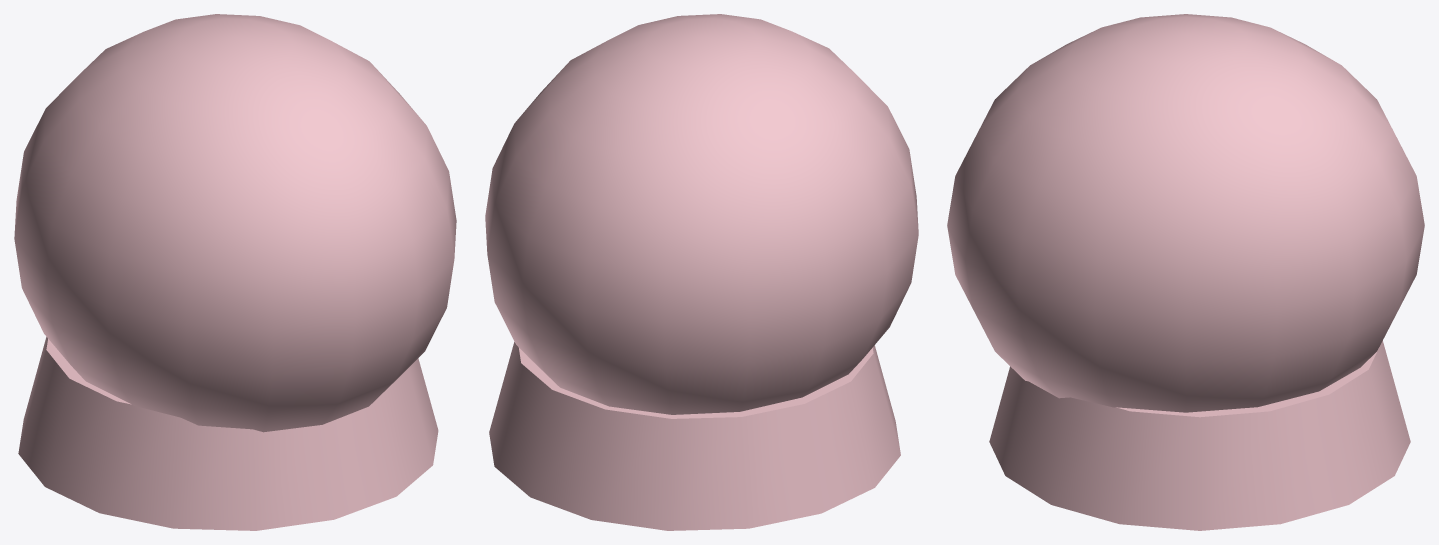
The model's file is cozy_mitten.glb.
3 renders of one model, left to right at view 1: azimuth 30°, elevation 25°; view 2: azimuth 150°, elevation 25°; view 3: azimuth 270°, elevation 25°, orthographic.
Visible parts, largest first — view 1: Cozy Mitten; view 2: Cozy Mitten; view 3: Cozy Mitten.
Boxes of the visible parts, <box> form: Cozy Mitten: <box>14,14,456,530</box>; Cozy Mitten: <box>485,14,918,530</box>; Cozy Mitten: <box>947,14,1424,530</box>.
Bounding box in the file's own units: 0.31 × 0.32 × 0.34.
